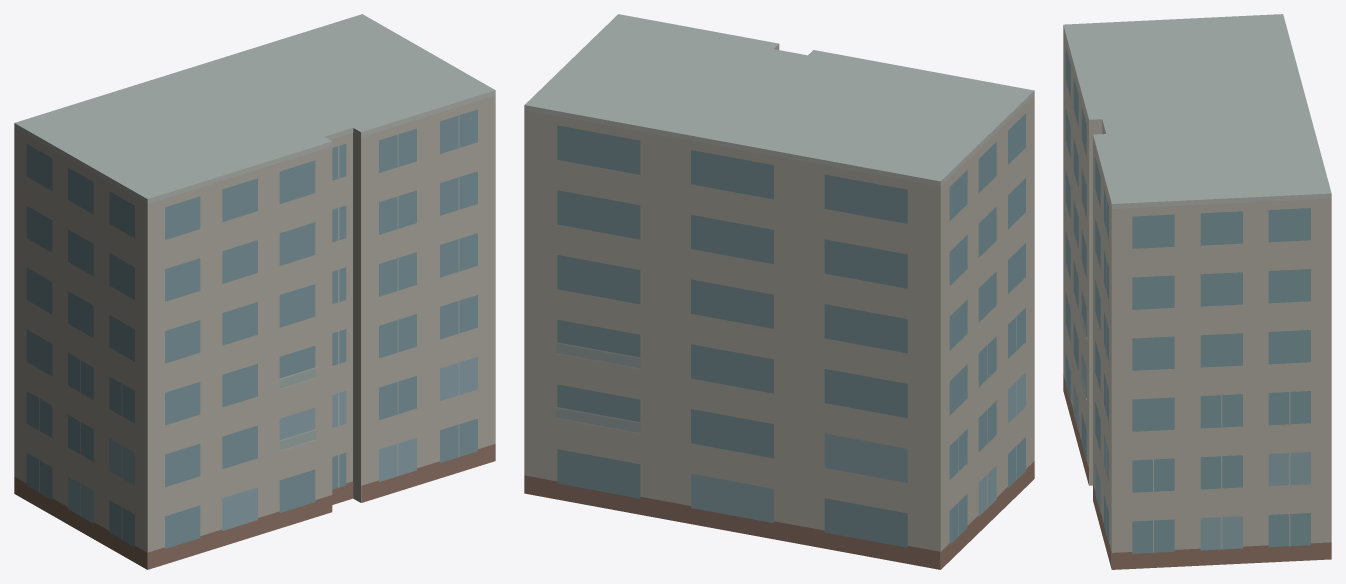
File: survey-upis-32640615.glb
The picture shows the model from 3 angles, left to right: view 1: azimuth 30°, elevation 25°; view 2: azimuth 150°, elevation 25°; view 3: azimuth 270°, elevation 25°; orthographic projection. The views are drawn at different scales.
Visible parts, largest first — view 1: survey-upis-32640615.tmp; view 2: survey-upis-32640615.tmp; view 3: survey-upis-32640615.tmp.
Part boxes in pixels (x1=…): survey-upis-32640615.tmp: x1=14, y1=14, x2=495, y2=569; survey-upis-32640615.tmp: x1=524, y1=14, x2=1034, y2=569; survey-upis-32640615.tmp: x1=1063, y1=14, x2=1331, y2=569.
Size of the model in its own units: 20.39 by 18.3 by 12.18.
